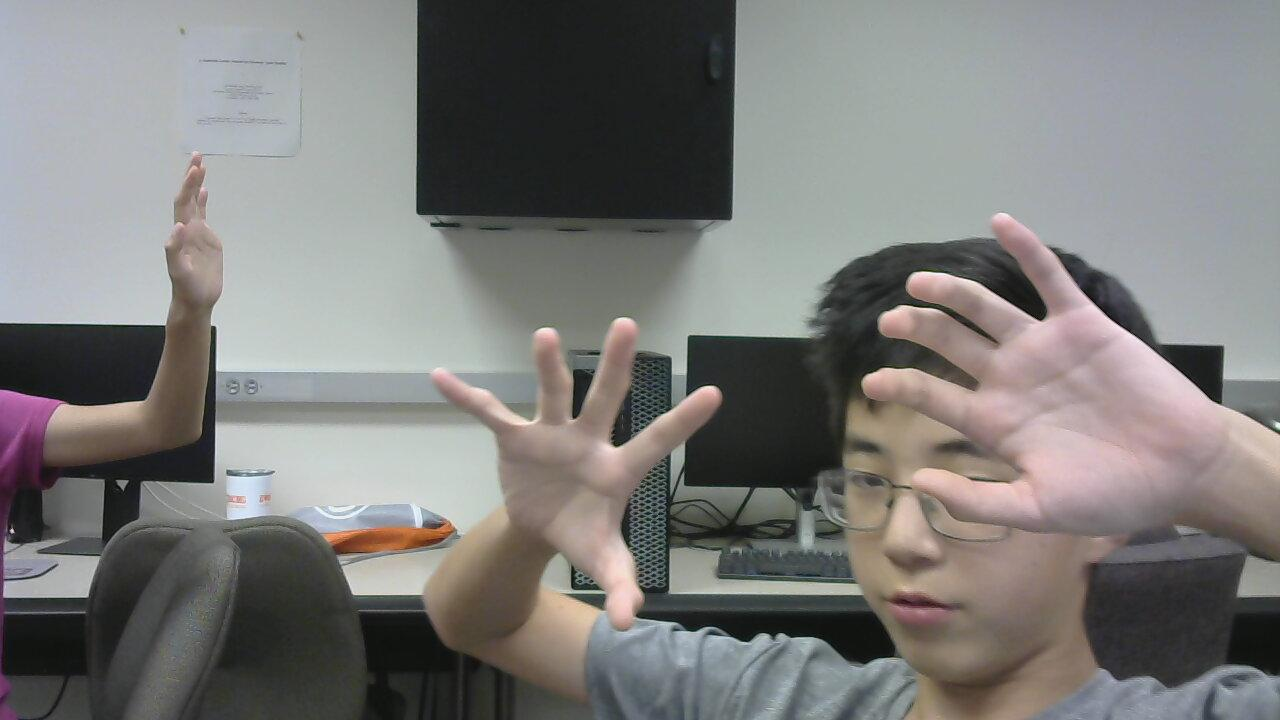hands: (831, 205, 1188, 540), (412, 304, 728, 636), (156, 147, 246, 307)
